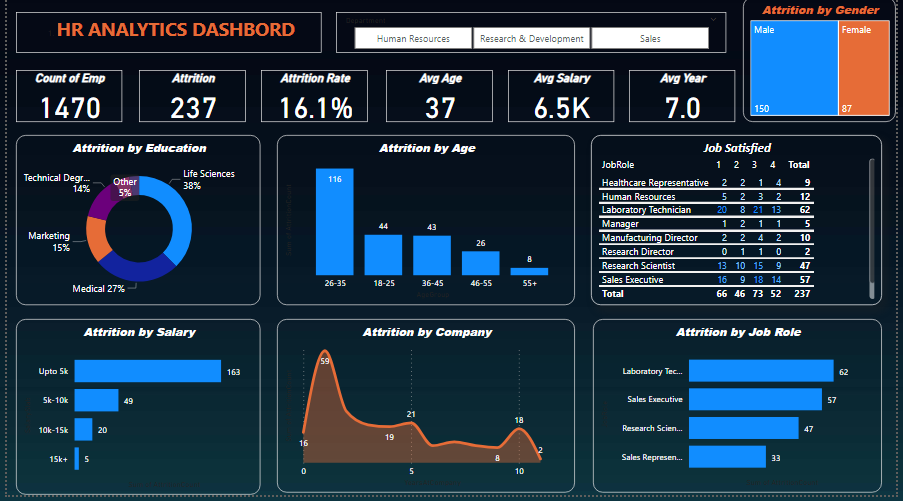

What the dashboard file says about the page in this screenshot:
{"tool":"powerbi","page":{"name":"Page 1","canvas":[1280,720],"ordinal":0},"visuals":[{"type":"card","title":"Count of Emp","fields":{"Values":["Sum(HR_Analytics (3).EmployeeCount)"]},"box":[13.4,107.4,152.7,75.5],"z":0},{"type":"card","title":"Attrition","fields":{"Values":["Sum(HR_Analytics (3).AttritionCount)"]},"box":[189.6,107.4,154.3,75.5],"z":1000},{"type":"card","title":"Attrition Rate","fields":{"Values":["HR_Analytics (3).AttritionRate"]},"box":[365.7,107.4,154.3,75.5],"z":2000},{"type":"card","title":"Avg Age","fields":{"Values":["Avg(HR_Analytics (3).Age)"]},"box":[545.2,107.4,154.3,75.5],"z":3000},{"type":"card","title":"Avg Salary","fields":{"Values":["Avg(HR_Analytics (3).MonthlyIncome)"]},"box":[721.4,107.4,152.7,75.5],"z":4000},{"type":"card","title":"Avg Year","fields":{"Values":["Avg(HR_Analytics (3).YearsAtCompany)"]},"box":[895.8,107.4,152.7,75.5],"z":5000},{"type":"donutChart","title":" Attrition by Education","fields":{"Category":["HR_Analytics (3).EducationField"],"Y":["Sum(HR_Analytics (3).AttritionCount)"]},"box":[13.4,201.3,352.3,244.9],"z":6000},{"type":"columnChart","title":" Attrition by Age","fields":{"Category":["HR_Analytics (3).AgeGroup"],"Y":["Sum(HR_Analytics (3).AttritionCount)"]},"box":[389.2,201.3,429.5,244.9],"z":7000},{"type":"pivotTable","title":"Job Satisfied","fields":{"Rows":["HR_Analytics (3).JobRole"],"Columns":["HR_Analytics (3).JobSatisfaction"],"Values":["Sum(HR_Analytics (3).AttritionCount)"]},"box":[840.5,201.3,419.4,244.9],"z":8000},{"type":"barChart","title":" Attrition by Salary","fields":{"Category":["HR_Analytics (3).SalarySlab"],"Y":["Sum(HR_Analytics (3).AttritionCount)"]},"box":[13.4,466.4,352.3,253.3],"z":9000},{"type":"barChart","title":" Attrition by Job Role","fields":{"Category":["HR_Analytics (3).JobRole"],"Y":["Sum(HR_Analytics (3).AttritionCount)"]},"box":[843.8,466.4,416,250],"z":10000},{"type":"areaChart","title":" Attrition by Company","fields":{"Category":["HR_Analytics (3).YearsAtCompany"],"Y":["Sum(HR_Analytics (3).AttritionCount)"]},"box":[389.2,466.4,429.5,250],"z":11000},{"type":"treemap","title":" Attrition by Gender","fields":{"Group":["HR_Analytics (3).Gender"],"Values":["Sum(HR_Analytics (3).AttritionCount)"]},"box":[1060.2,3.4,219.8,179.5],"z":12000},{"type":"textbox","box":[13.4,25.2,439.5,58.7],"z":14000},{"type":"slicer","fields":{"Values":["HR_Analytics (3).Department"]},"box":[473.1,25.2,562,58.7],"z":14001}]}

Visuals, with their boxes in screenshot pixels (x1, y1, x2, y2), scaled from the page's 1280x720 canvas onto the 903x501 screenshot:
"Count of Emp" card: BBox(9, 75, 117, 127)
"Attrition" card: BBox(134, 75, 243, 127)
"Attrition Rate" card: BBox(258, 75, 367, 127)
"Avg Age" card: BBox(385, 75, 493, 127)
"Avg Salary" card: BBox(509, 75, 617, 127)
"Avg Year" card: BBox(632, 75, 740, 127)
" Attrition by Education" donutChart: BBox(9, 140, 258, 310)
" Attrition by Age" columnChart: BBox(275, 140, 578, 310)
"Job Satisfied" pivotTable: BBox(593, 140, 889, 310)
" Attrition by Salary" barChart: BBox(9, 325, 258, 500)
" Attrition by Job Role" barChart: BBox(595, 325, 889, 498)
" Attrition by Company" areaChart: BBox(275, 325, 578, 498)
" Attrition by Gender" treemap: BBox(748, 2, 902, 127)
textbox: BBox(9, 18, 320, 58)
slicer - HR_Analytics (3).Department: BBox(334, 18, 730, 58)
